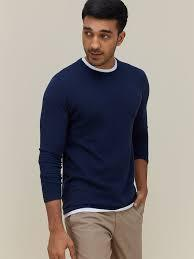Tshirt: (37, 59, 165, 218)
